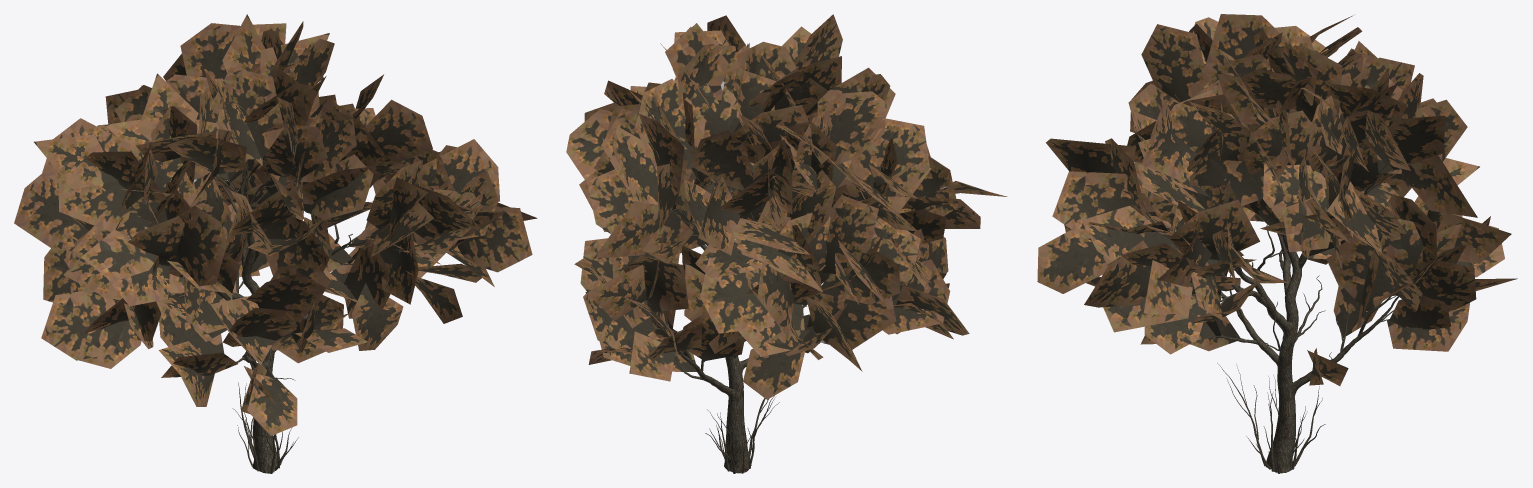
File: SM_Maple_Fall_01a.fbx
3 views of the same model, side by side, from view 1: azimuth 30°, elevation 25°; view 2: azimuth 150°, elevation 25°; view 3: azimuth 270°, elevation 25° (orthographic). The views are drawn at different scales.
Visible parts, largest first — view 1: SM_Maple_Fall_01a_LOD0; view 2: SM_Maple_Fall_01a_LOD0; view 3: SM_Maple_Fall_01a_LOD0.
Part boxes in pixels (x1,y1,x2,y2): SM_Maple_Fall_01a_LOD0: [14, 14, 537, 473]; SM_Maple_Fall_01a_LOD0: [566, 14, 1007, 473]; SM_Maple_Fall_01a_LOD0: [1037, 14, 1517, 473].
Size of the model in its own units: 1014 by 955 by 977.
